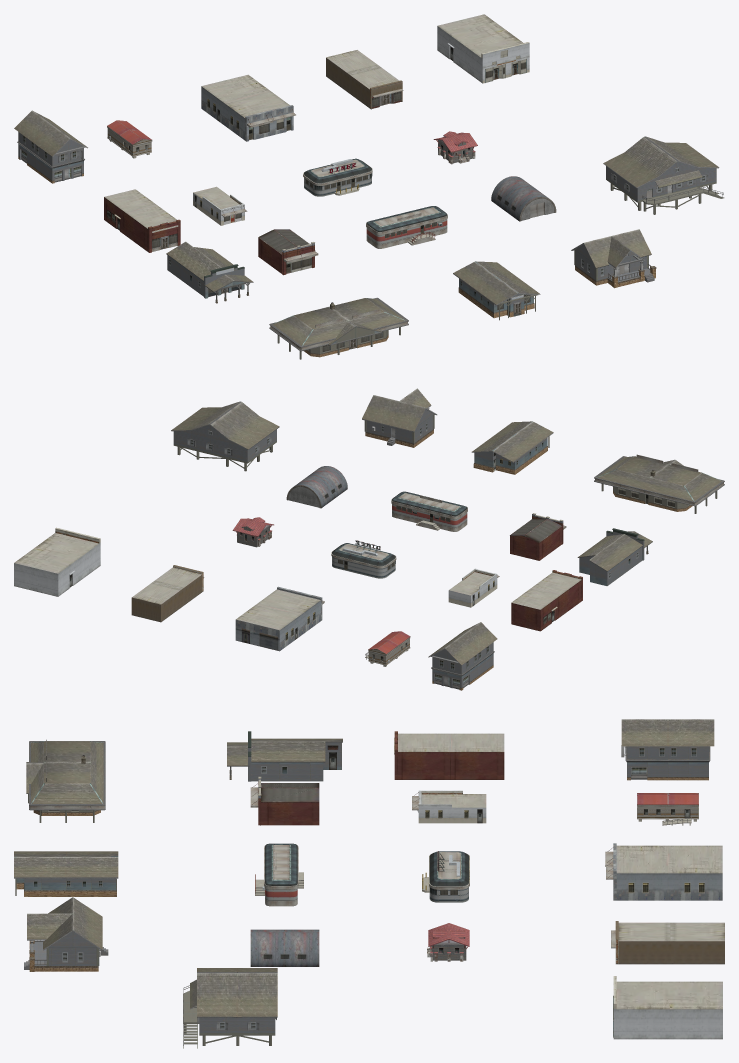
The model's file is b_rural.glb.
The picture shows the model from 3 angles, top to bottom: view 1: azimuth 30°, elevation 25°; view 2: azimuth 150°, elevation 25°; view 3: azimuth 270°, elevation 25°; orthographic projection. The views are drawn at different scales.
Parts seen in each view (by area): view 1: Rural_WoodenBuilding_1, Rural_WoodenBuilding_4_Rural_Housetrim_1_0, Rural_StoreSmall_6_Rural_Facade_FLR_2_0, Rural_StoreSmall_8_Rural_Facade_FLR_2_0, Rural_WoodenBuilding_2_Rural_Housetrim_1_0, Rural_WoodenBuilding_3_Rural_Housetrim_1_0, Rural_WoodenBuilding_5_Rural_Housetrim_1_0, Rural_Diner_1_Rural_Facade_FLR_2_0, Rural_StoreSmall_8_Rural_Midcity_Walls_FLR_1_0, Rural_StoreSmall_2_Material #0_0, Rural_QuonsetHut_1_Rural_Industrial_Walls_FLR_1_0, Rural_StoreSmall_5_Rural_Facade_FLR_2_0 (+18 smaller); view 2: Rural_WoodenBuilding_1, Rural_WoodenBuilding_4_Rural_Housetrim_1_0, Rural_WoodenBuilding_2_Rural_Housetrim_1_0, Rural_WoodenBuilding_3_Rural_Housetrim_1_0, Rural_StoreSmall_8_Rural_Facade_FLR_2_0, Rural_WoodenBuilding_5_Rural_Housetrim_1_0, Rural_StoreSmall_8_Rural_Midcity_Walls_FLR_1_0, Rural_StoreSmall_6_Rural_Midcity_Facade_FLR_2_0, Rural_StoreSmall_6_Rural_Facade_FLR_2_0, Rural_StoreSmall_1_Rural_Brownstone_Facade_Flr_6_0, Rural_Diner_1_Rural_Facade_FLR_2_0, Rural_QuonsetHut_1_Rural_Industrial_Walls_FLR_1_0 (+17 smaller); view 3: Rural_WoodenBuilding_1, Rural_WoodenBuilding_4_Rural_Housetrim_1_0, Rural_WoodenBuilding_3_Rural_Housetrim_1_0, Rural_WoodenBuilding_5_Rural_Housetrim_1_0, Rural_StoreSmall_6_Rural_Facade_FLR_2_0, Rural_StoreSmall_8_Rural_Midcity_Walls_FLR_1_0, Rural_WoodenBuilding_2_Rural_Housetrim_1_0, Rural_StoreSmall_8_Rural_Facade_FLR_2_0, Rural_StoreSmall_5_Rural_Brownstone_Facade_Flr_6_0, Rural_StoreSmall_6_Rural_Midcity_Facade_FLR_2_0, Rural_QuonsetHut_1_Rural_Industrial_Walls_FLR_1_0, Rural_StoreSmall_1_Rural_Brownstone_Facade_Flr_6_0 (+14 smaller).
Boxes of the visible parts, left/top/right/bottom form: Rural_WoodenBuilding_1: left=603, top=136, right=724, bottom=214; Rural_WoodenBuilding_4_Rural_Housetrim_1_0: left=269, top=297, right=408, bottom=357; Rural_StoreSmall_6_Rural_Facade_FLR_2_0: left=201, top=74, right=295, bottom=140; Rural_StoreSmall_8_Rural_Facade_FLR_2_0: left=437, top=14, right=529, bottom=82; Rural_WoodenBuilding_2_Rural_Housetrim_1_0: left=571, top=229, right=656, bottom=288; Rural_WoodenBuilding_3_Rural_Housetrim_1_0: left=453, top=261, right=540, bottom=318; Rural_WoodenBuilding_5_Rural_Housetrim_1_0: left=14, top=110, right=87, bottom=183; Rural_Diner_1_Rural_Facade_FLR_2_0: left=366, top=206, right=447, bottom=248; Rural_StoreSmall_8_Rural_Midcity_Walls_FLR_1_0: left=437, top=26, right=529, bottom=83; Rural_StoreSmall_2_Material #0_0: left=166, top=241, right=253, bottom=303; Rural_QuonsetHut_1_Rural_Industrial_Walls_FLR_1_0: left=491, top=176, right=556, bottom=221; Rural_StoreSmall_5_Rural_Facade_FLR_2_0: left=104, top=189, right=178, bottom=251; Rural_WoodenBuilding_1: left=171, top=401, right=279, bottom=471; Rural_WoodenBuilding_4_Rural_Housetrim_1_0: left=594, top=456, right=724, bottom=511; Rural_WoodenBuilding_2_Rural_Housetrim_1_0: left=362, top=388, right=437, bottom=447; Rural_WoodenBuilding_3_Rural_Housetrim_1_0: left=471, top=421, right=553, bottom=474; Rural_StoreSmall_8_Rural_Facade_FLR_2_0: left=14, top=527, right=100, bottom=587; Rural_WoodenBuilding_5_Rural_Housetrim_1_0: left=428, top=622, right=497, bottom=690; Rural_StoreSmall_8_Rural_Midcity_Walls_FLR_1_0: left=14, top=538, right=100, bottom=596; Rural_StoreSmall_6_Rural_Midcity_Facade_FLR_2_0: left=235, top=586, right=322, bottom=651; Rural_StoreSmall_6_Rural_Facade_FLR_2_0: left=236, top=589, right=324, bottom=640; Rural_StoreSmall_1_Rural_Brownstone_Facade_Flr_6_0: left=510, top=514, right=563, bottom=560; Rural_Diner_1_Rural_Facade_FLR_2_0: left=391, top=491, right=467, bottom=531; Rural_QuonsetHut_1_Rural_Industrial_Walls_FLR_1_0: left=286, top=466, right=347, bottom=508; Rural_WoodenBuilding_1: left=183, top=968, right=277, bottom=1048; Rural_WoodenBuilding_4_Rural_Housetrim_1_0: left=26, top=741, right=105, bottom=815; Rural_WoodenBuilding_3_Rural_Housetrim_1_0: left=14, top=851, right=118, bottom=896; Rural_WoodenBuilding_5_Rural_Housetrim_1_0: left=621, top=719, right=714, bottom=780; Rural_StoreSmall_6_Rural_Facade_FLR_2_0: left=605, top=845, right=722, bottom=893; Rural_StoreSmall_8_Rural_Midcity_Walls_FLR_1_0: left=613, top=1004, right=722, bottom=1039; Rural_WoodenBuilding_2_Rural_Housetrim_1_0: left=27, top=897, right=102, bottom=971; Rural_StoreSmall_8_Rural_Facade_FLR_2_0: left=613, top=976, right=722, bottom=1037; Rural_StoreSmall_5_Rural_Brownstone_Facade_Flr_6_0: left=394, top=731, right=504, bottom=779; Rural_StoreSmall_6_Rural_Midcity_Facade_FLR_2_0: left=613, top=843, right=722, bottom=900; Rural_QuonsetHut_1_Rural_Industrial_Walls_FLR_1_0: left=250, top=929, right=319, bottom=966; Rural_StoreSmall_1_Rural_Brownstone_Facade_Flr_6_0: left=258, top=779, right=319, bottom=825.
Bounding box in the file's own units: 126 × 10.73 × 130.
9 materials, 9 textured.
